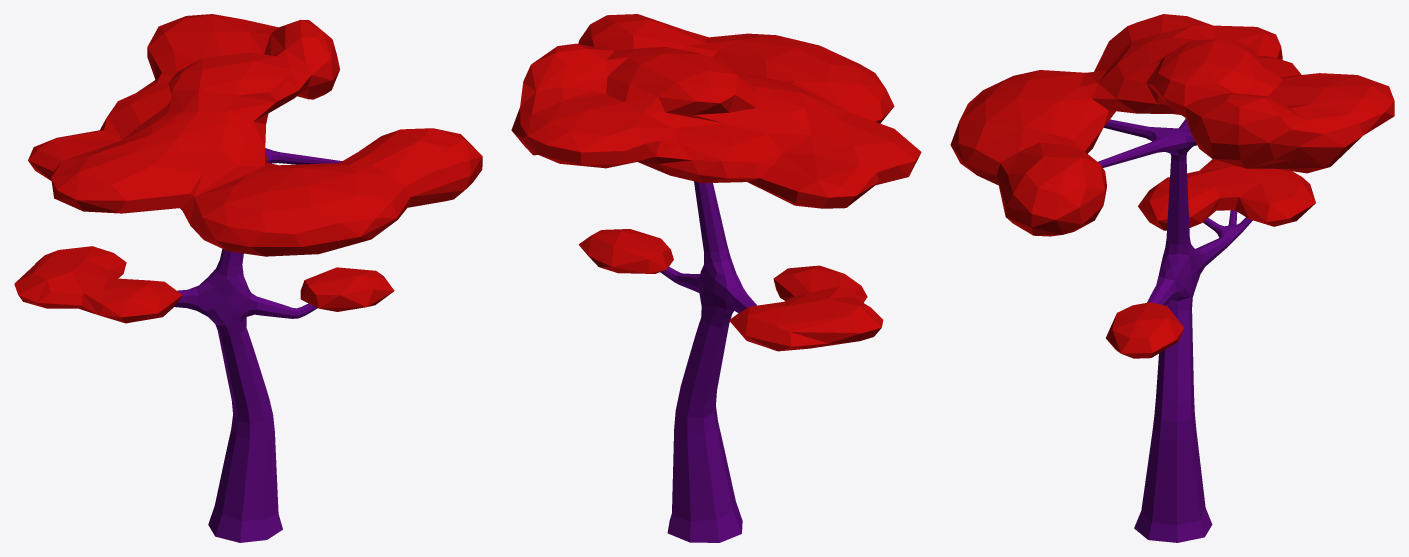
Rendered from tree2.fbx.
The picture shows the model from 3 angles, left to right: view 1: azimuth 30°, elevation 25°; view 2: azimuth 150°, elevation 25°; view 3: azimuth 270°, elevation 25°; orthographic projection. The views are drawn at different scales.
Visible parts, largest first — view 1: Mball_014, Cube; view 2: Mball_014, Cube; view 3: Mball_014, Cube.
Boxes of the visible parts, x1,y1,x2,y2 form: Mball_014: [14, 14, 482, 323]; Cube: [174, 148, 341, 542]; Mball_014: [511, 14, 921, 351]; Cube: [660, 181, 756, 542]; Mball_014: [950, 14, 1394, 358]; Cube: [1098, 119, 1252, 542].
Size of the model in its own units: 4.38 by 5.11 by 4.29.
